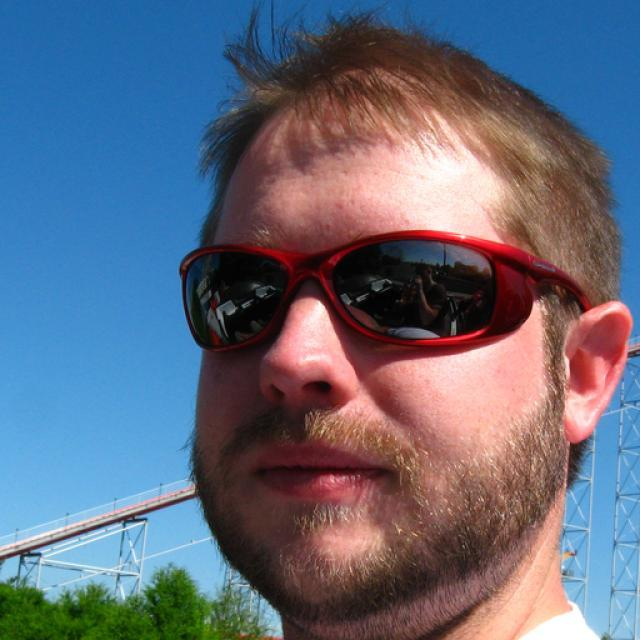neutral: (190, 63, 566, 630)
